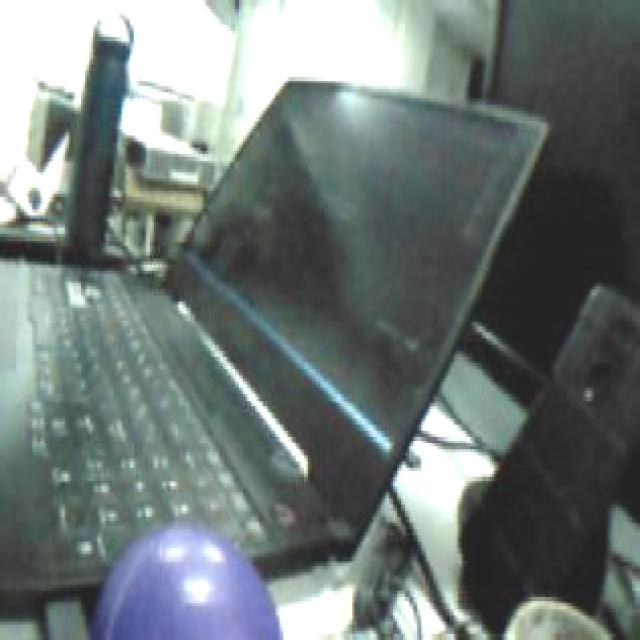BallPurple: (97, 523, 282, 640)
